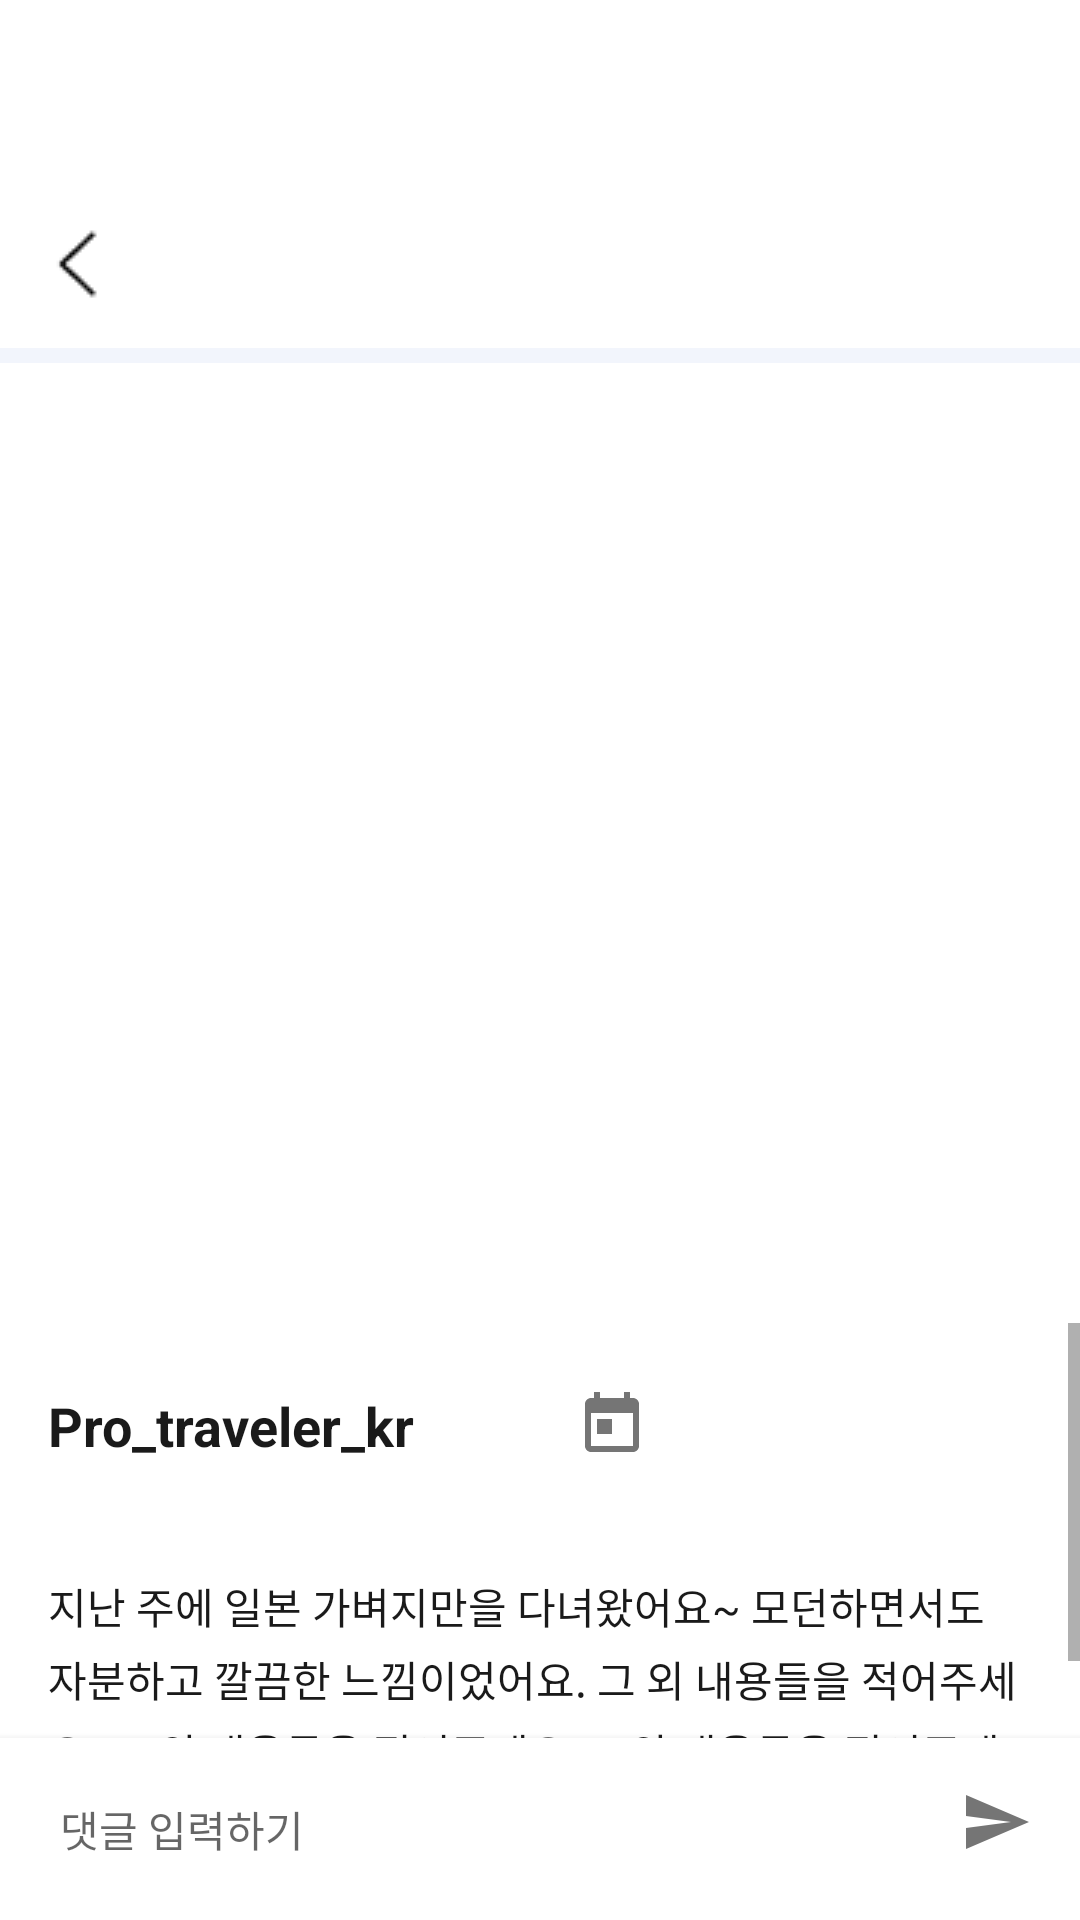

Named icons in this screenshot (1080×1920) and their bounding boxes, [x1, y1, x2, y2]:
send: [966, 1795, 1029, 1849]
뒤로가기: [59, 230, 97, 298]
